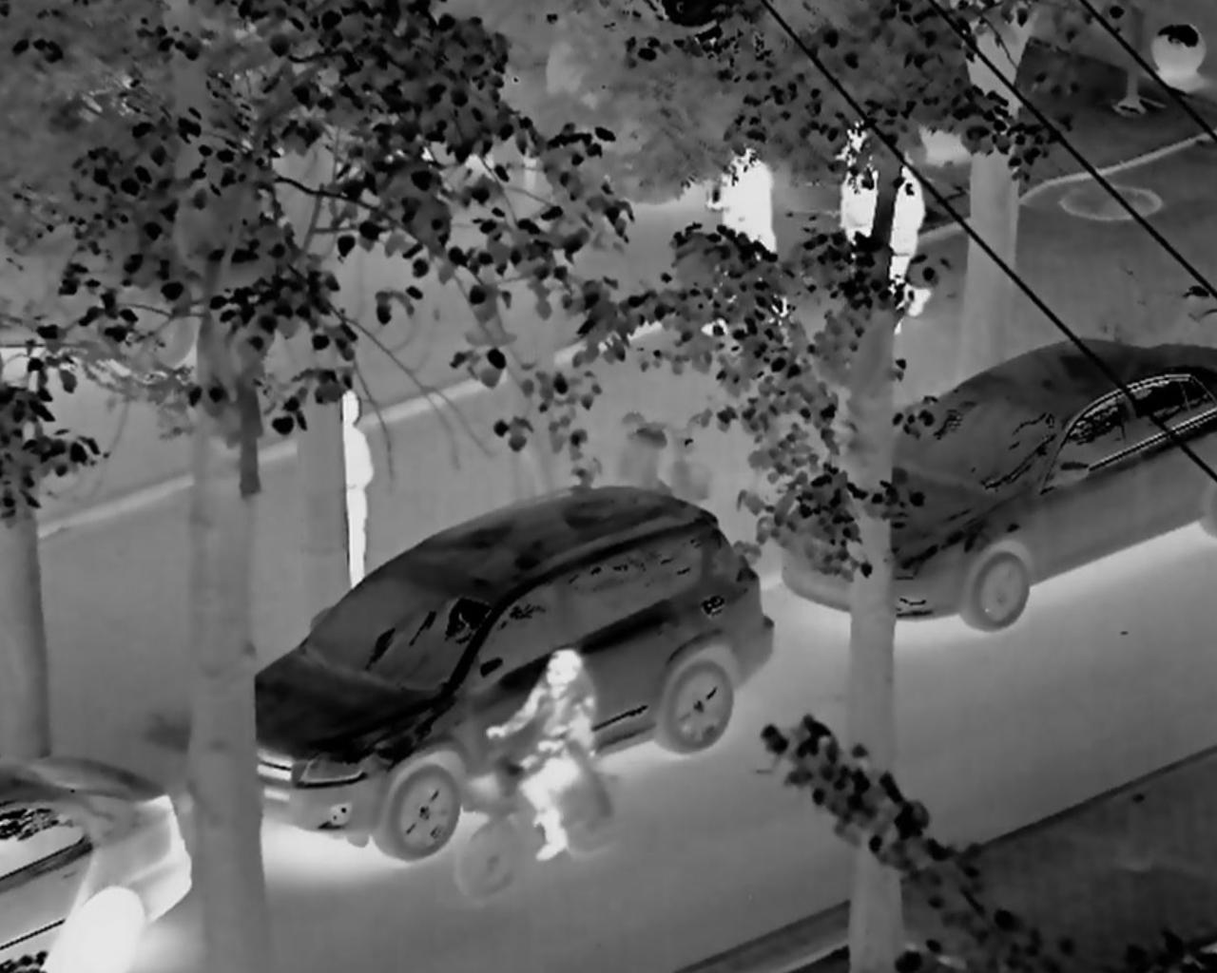person: (476, 629, 627, 891), (700, 114, 787, 333), (332, 377, 389, 601), (886, 144, 952, 334), (835, 111, 879, 297)
